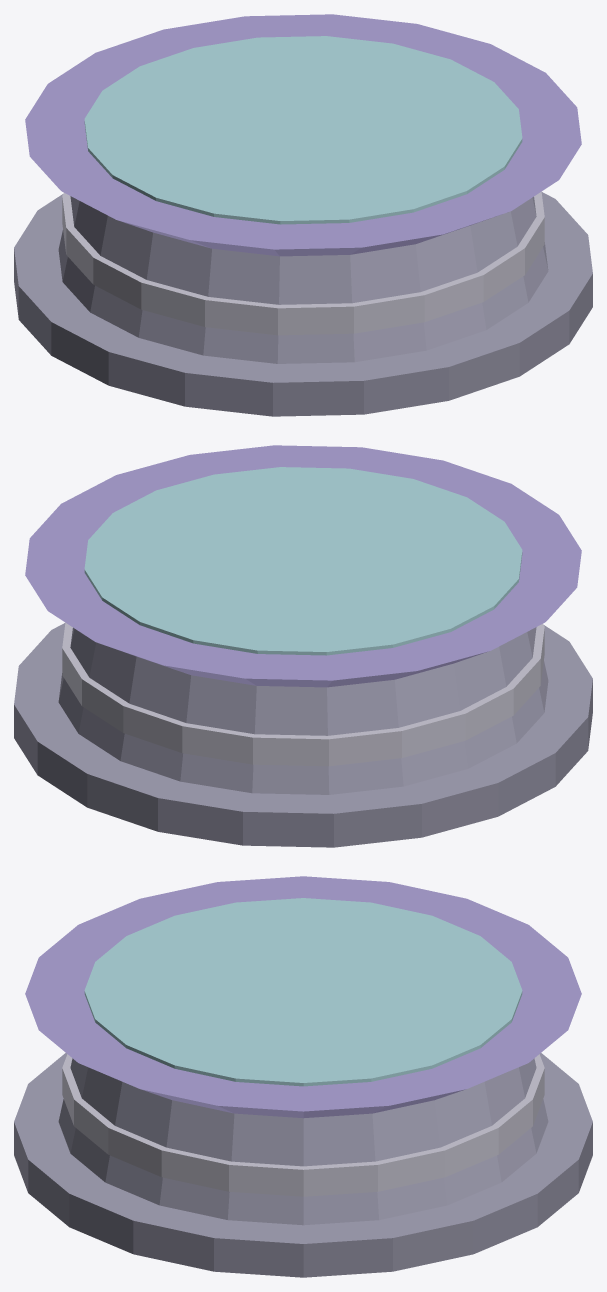
File: goo_cork_stand@space.fbx
The picture shows the model from 3 angles, top to bottom: view 1: azimuth 30°, elevation 25°; view 2: azimuth 150°, elevation 25°; view 3: azimuth 270°, elevation 25°; orthographic projection.
Parts seen in each view (by area): view 1: goo_cork_stand; view 2: goo_cork_stand; view 3: goo_cork_stand.
Boxes of the visible parts, box(x1,y1,x2,y2) form: goo_cork_stand: box(14, 14, 592, 416); goo_cork_stand: box(14, 445, 592, 847); goo_cork_stand: box(14, 876, 592, 1277).
Bounding box in the file's own units: 7.8 × 2.45 × 7.8.
